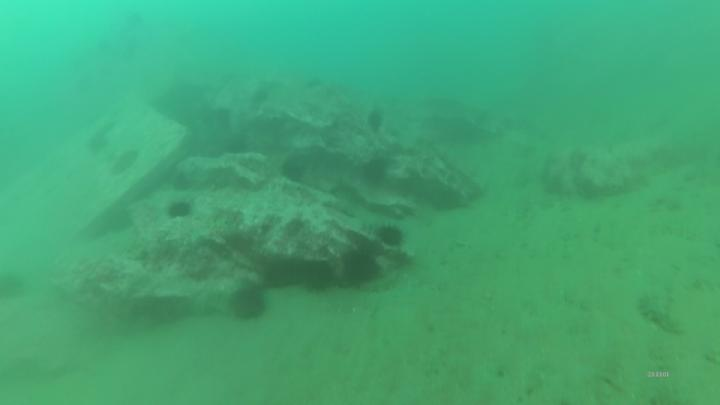echinus: (227, 280, 271, 326), (338, 245, 385, 286), (372, 222, 409, 252), (359, 156, 391, 185), (158, 199, 197, 220)
holothurian: (637, 285, 691, 339)
